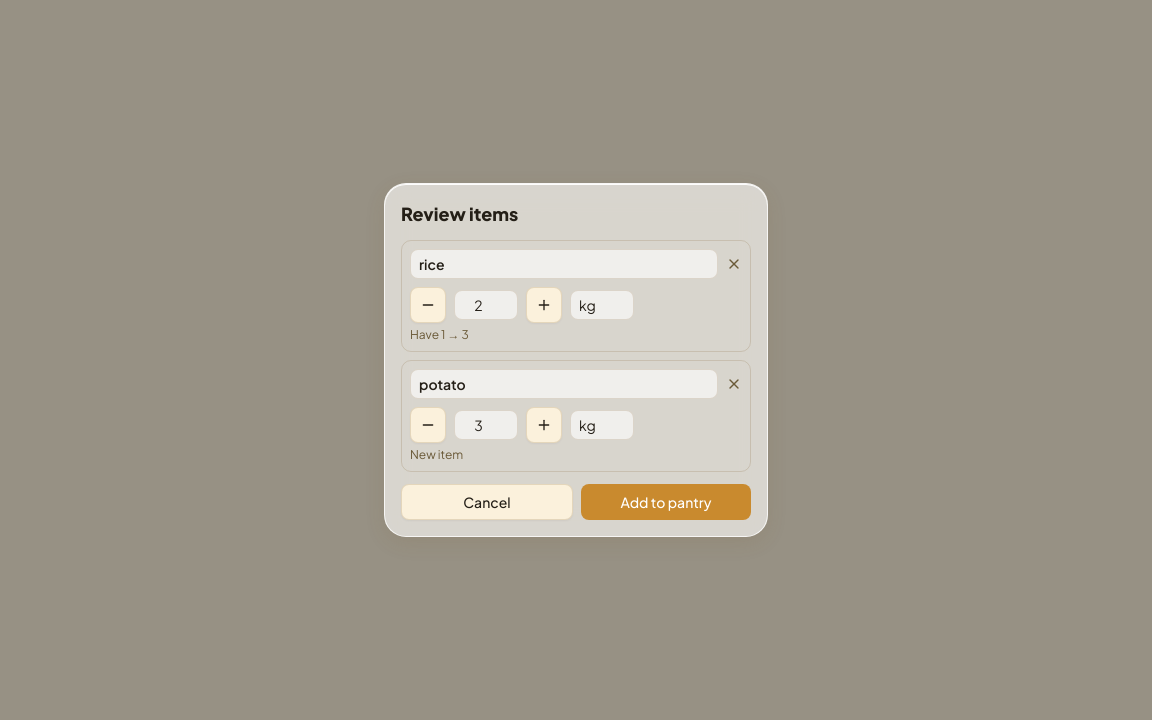
Test: plus button increments the quantity (0.5 step for weight units)
Step 1. Click the 1st button named "increase" → point(544, 305), box [526,287,562,323]
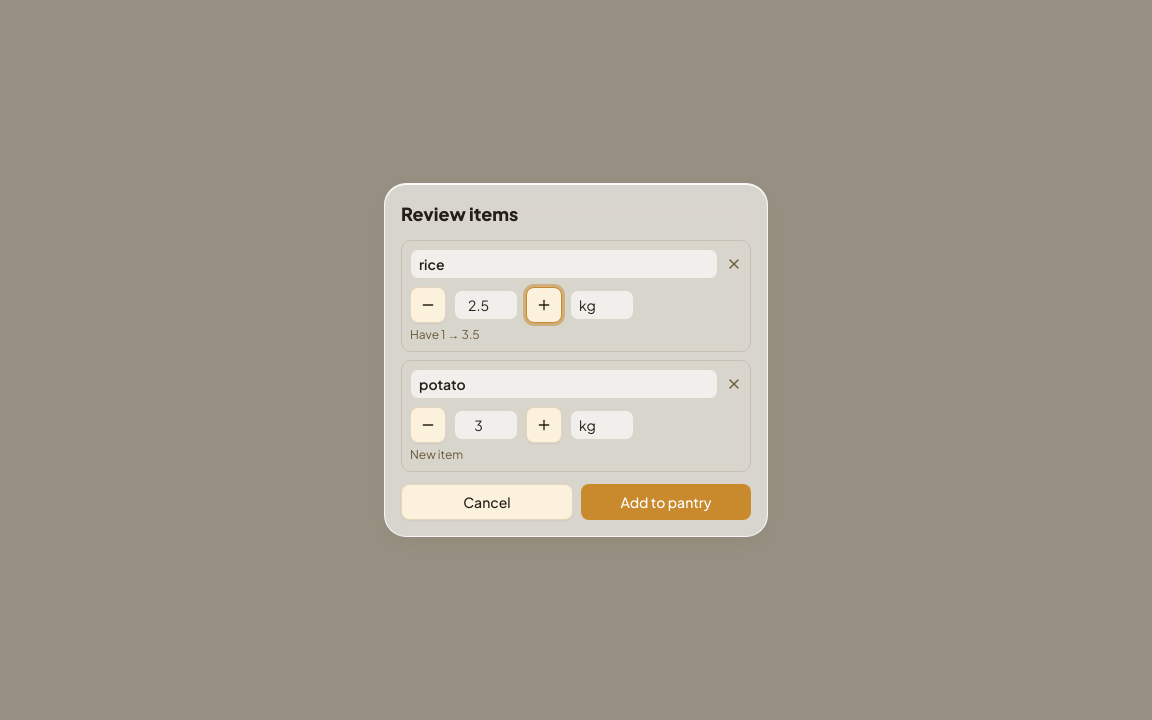
Check: the 1st number field named "Quantity" holds "2.5", box [454,290,518,320]
